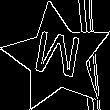M_S: (31, 29, 84, 87)
